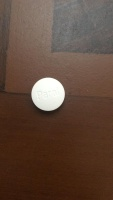Parol: (29, 76, 66, 114)
